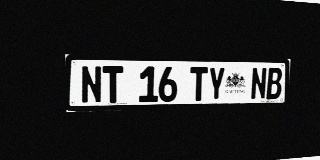1: (139, 66, 158, 102)
6: (159, 66, 177, 102)
B: (266, 68, 282, 99)
N: (80, 66, 102, 104), (250, 67, 267, 100)
T: (103, 66, 123, 103), (190, 67, 208, 101)
Y: (208, 67, 225, 101)
